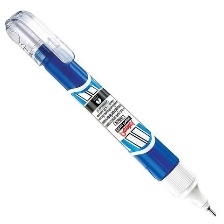correction_fluid: (3, 7, 219, 219)
